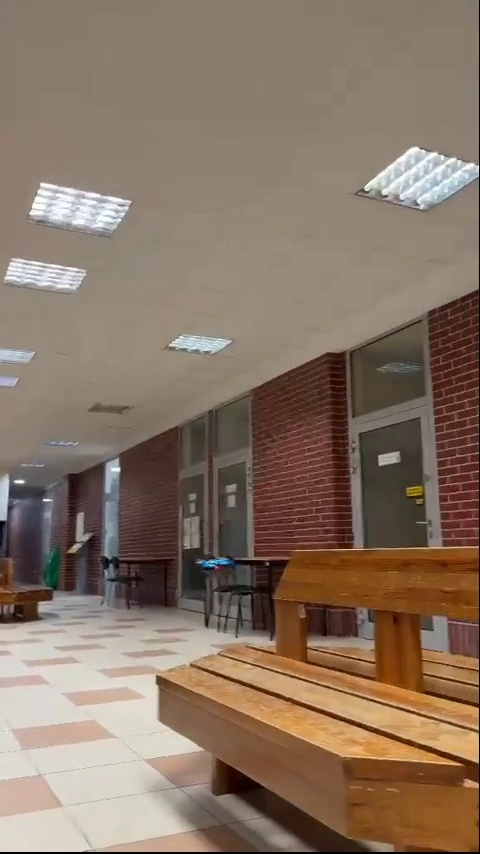drone: (199, 557, 236, 574)
